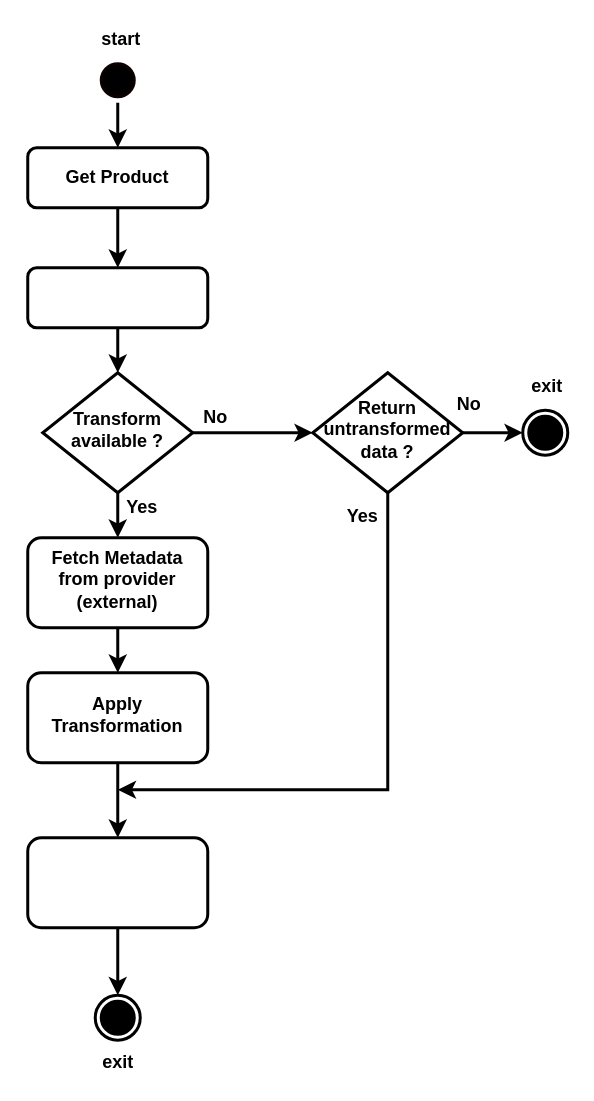
This 594x1101 diagram has some shape labels left out. The centre of each missing label's shape, as x and y in pixels:
Fetch Data from internal sources: point (117, 297)
return data: point (117, 882)
